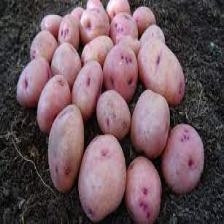Defected potato: (78, 132, 128, 222), (47, 104, 85, 196), (161, 121, 206, 198), (137, 40, 186, 106), (130, 86, 171, 160), (124, 154, 164, 224), (102, 41, 140, 104), (70, 60, 105, 124), (37, 73, 72, 136), (96, 88, 132, 142), (16, 56, 51, 107), (51, 42, 82, 90), (29, 30, 59, 69), (58, 13, 80, 51)
